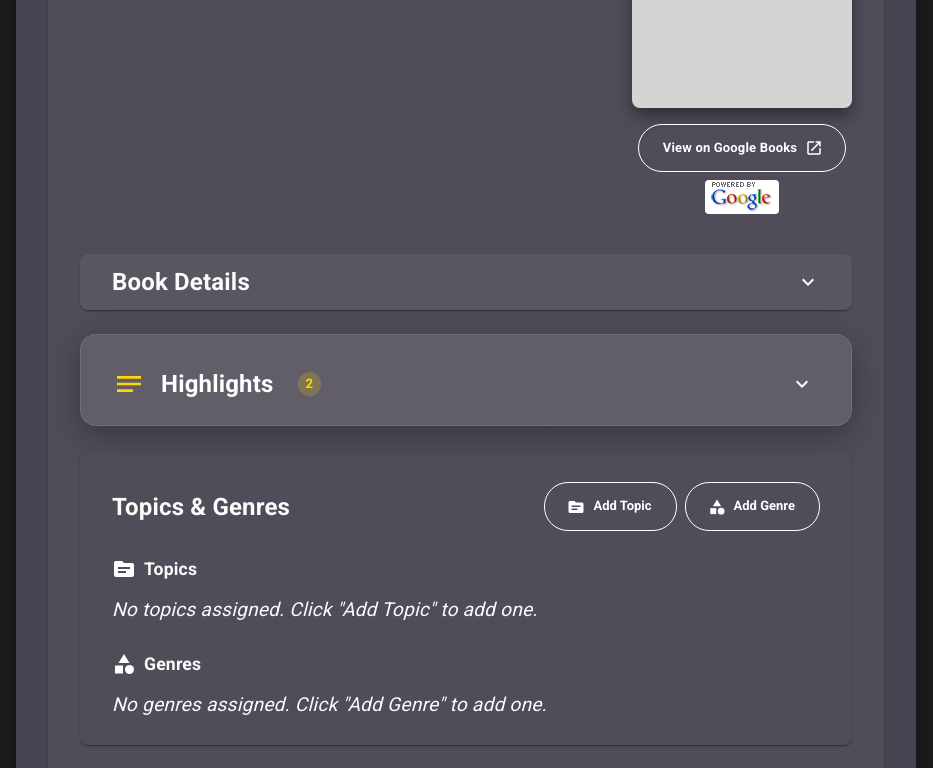
Test: MediaProfilePage › renders a Book and wires highlights from the hook through to the section
The image size is (933, 768).
(page scrolled)
Expected: the text "2" is shown, x1=306 y1=376 x2=313 y2=391
What coordinates should you click on to do the following:
click the heading "Highlights"
I would click on:
 (217, 384)
Its box is x1=161 y1=368 x2=274 y2=400.
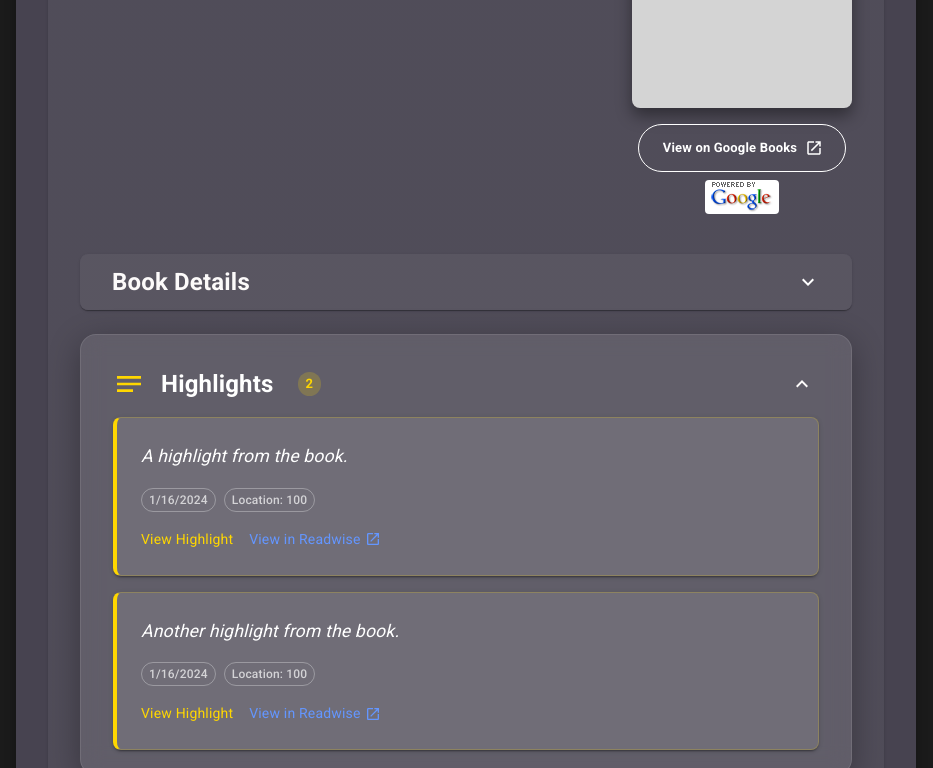
Now the text "A highlight from the book." is shown, box x1=141 y1=446 x2=348 y2=466
Now the text "Another highlight from the book." is shown, box x1=141 y1=621 x2=399 y2=641
